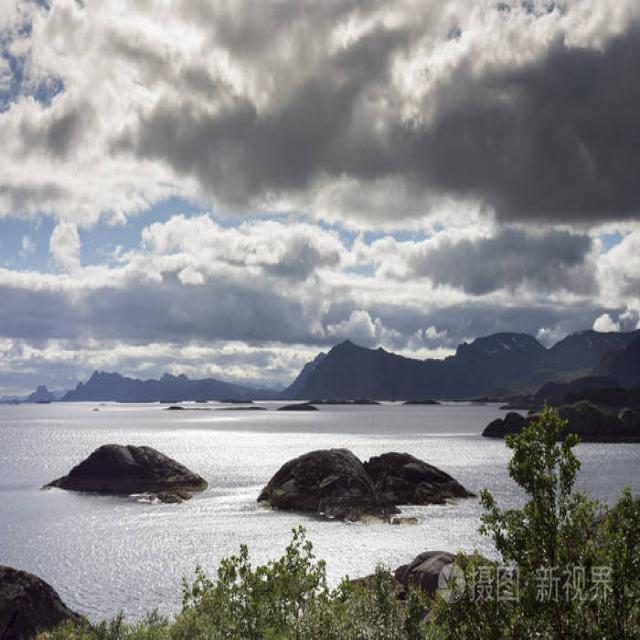reef: (264, 318, 595, 439), (252, 413, 473, 552), (70, 414, 210, 523)
